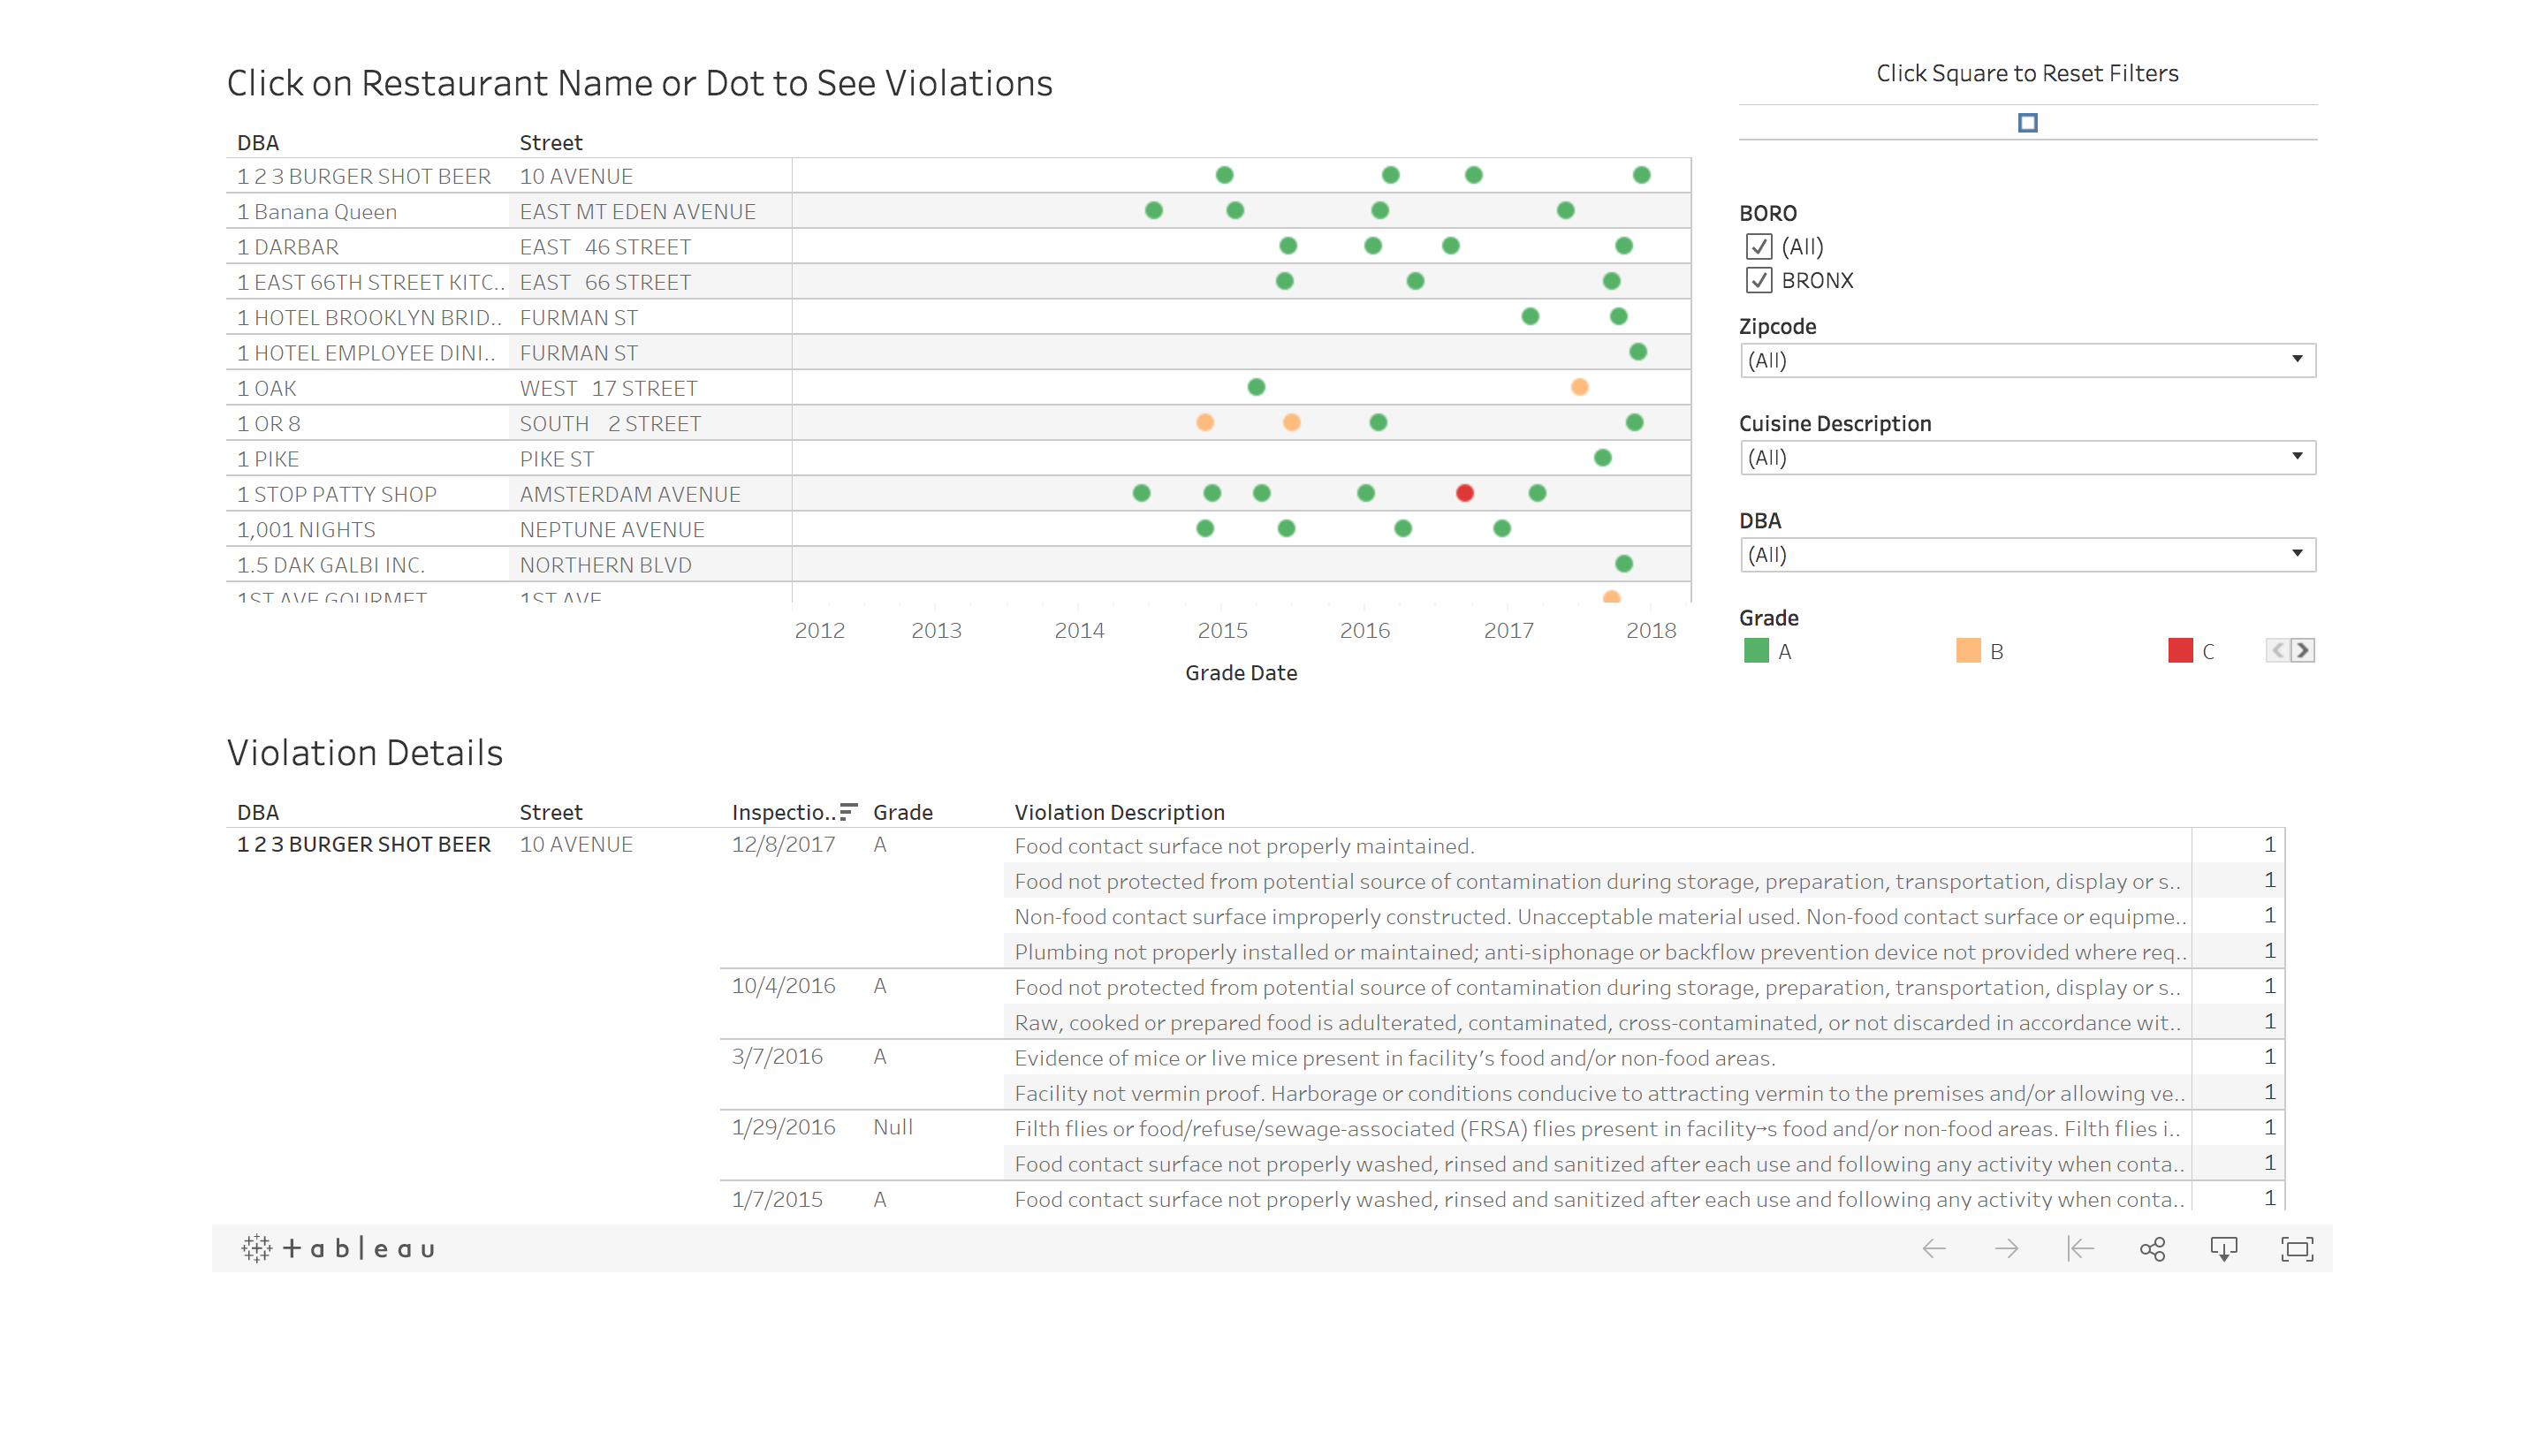

The dashboard page shown, as its layout file describes it:
{"tool":"tableau","page":{"name":"Dashboard 1","canvas":[800,600],"ordinal":0},"visuals":[{"type":"worksheet","title":"Select Restaraunt","mark":"Circle","rows":["DBA","STREET"],"cols":["GRADE DATE"],"box":[0,0,576,341]},{"type":"worksheet","title":"Click Square to Reset Filters","mark":"Shape","rows":["Calculation_151363177477521408"],"box":[576,0,224,90]},{"type":"filter","title":"Selct Dot in Cuisine Chart to View Detail","param":"[federated.0psdmap1dsk3f013heg040r6n32e].[none:BORO:nk]","box":[576,90,224,50.2]},{"type":"filter","title":"Select Restaraunt","param":"[federated.0psdmap1dsk3f013heg040r6n32e].[none:ZIPCODE:ok]","box":[576,140.2,224,50.2]},{"type":"filter","title":"Select Restaraunt","param":"[federated.0psdmap1dsk3f013heg040r6n32e].[none:CUISINE DESCRIPTION:nk]","box":[576,190.4,224,50.2]},{"type":"filter","title":"Select Restaraunt","param":"[federated.0psdmap1dsk3f013heg040r6n32e].[none:DBA:nk]","box":[576,240.6,224,50.2]},{"type":"legend","title":"Select Restaraunt","param":"[federated.0psdmap1dsk3f013heg040r6n32e].[none:GRADE:nk]","box":[576,290.8,224,50.2]},{"type":"worksheet","title":"Selct Dot in Cuisine Chart to View Detail","mark":"Automatic","rows":["DBA","STREET","INSPECTION DATE","GRADE","VIOLATION DESCRIPTION"],"box":[0,341,800,259]}]}

Visuals, with their boxes on the page's 800x600 design canvas (x1, y1, x2, y2). These are canvas units, not pixel positions in the 2545x1456 screenshot, which may show the page scaled, cropped or inside an application window:
"Select Restaraunt" worksheet (Circle marks): region(0, 0, 576, 341)
"Click Square to Reset Filters" worksheet (Shape marks): region(576, 0, 800, 90)
"Selct Dot in Cuisine Chart to View Detail" filter: region(576, 90, 800, 140)
"Select Restaraunt" filter: region(576, 140, 800, 190)
"Select Restaraunt" filter: region(576, 190, 800, 241)
"Select Restaraunt" filter: region(576, 241, 800, 291)
"Select Restaraunt" legend: region(576, 291, 800, 341)
"Selct Dot in Cuisine Chart to View Detail" worksheet: region(0, 341, 800, 600)
